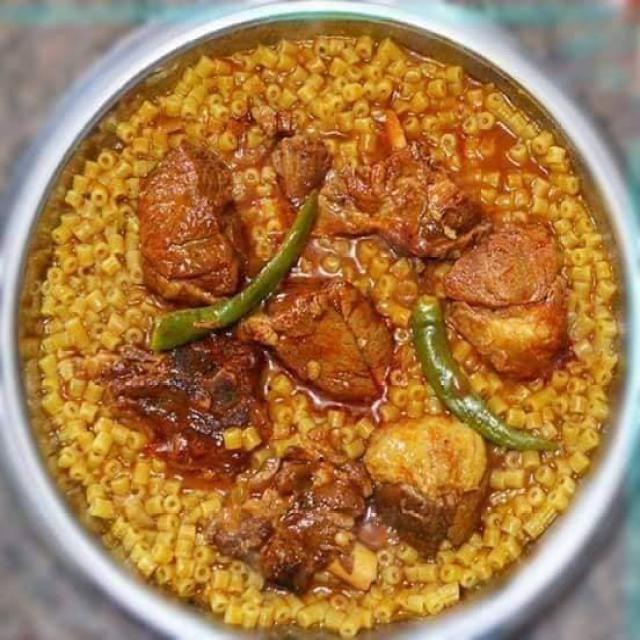Pasta: (44, 31, 600, 609)
